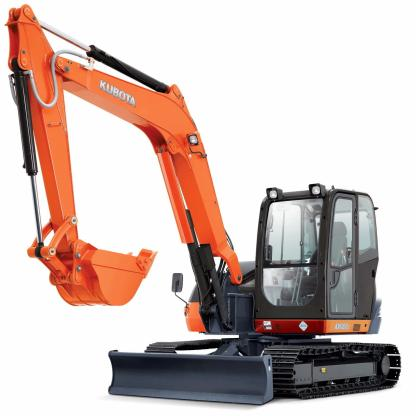excavator: (3, 5, 409, 404)
